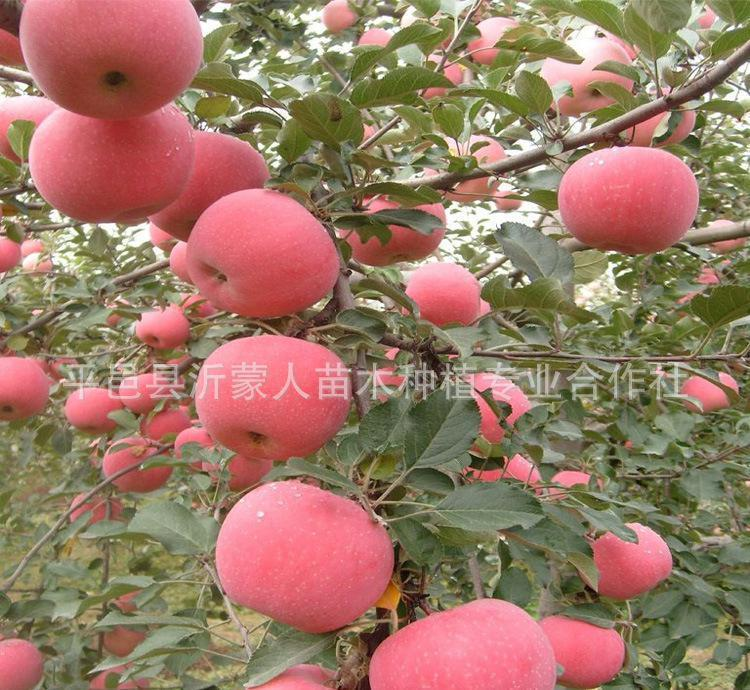apple: (213, 478, 396, 631), (16, 1, 211, 129), (28, 96, 197, 228), (174, 186, 343, 318), (195, 332, 350, 461), (368, 597, 558, 687), (559, 143, 698, 255), (1, 356, 56, 420)
